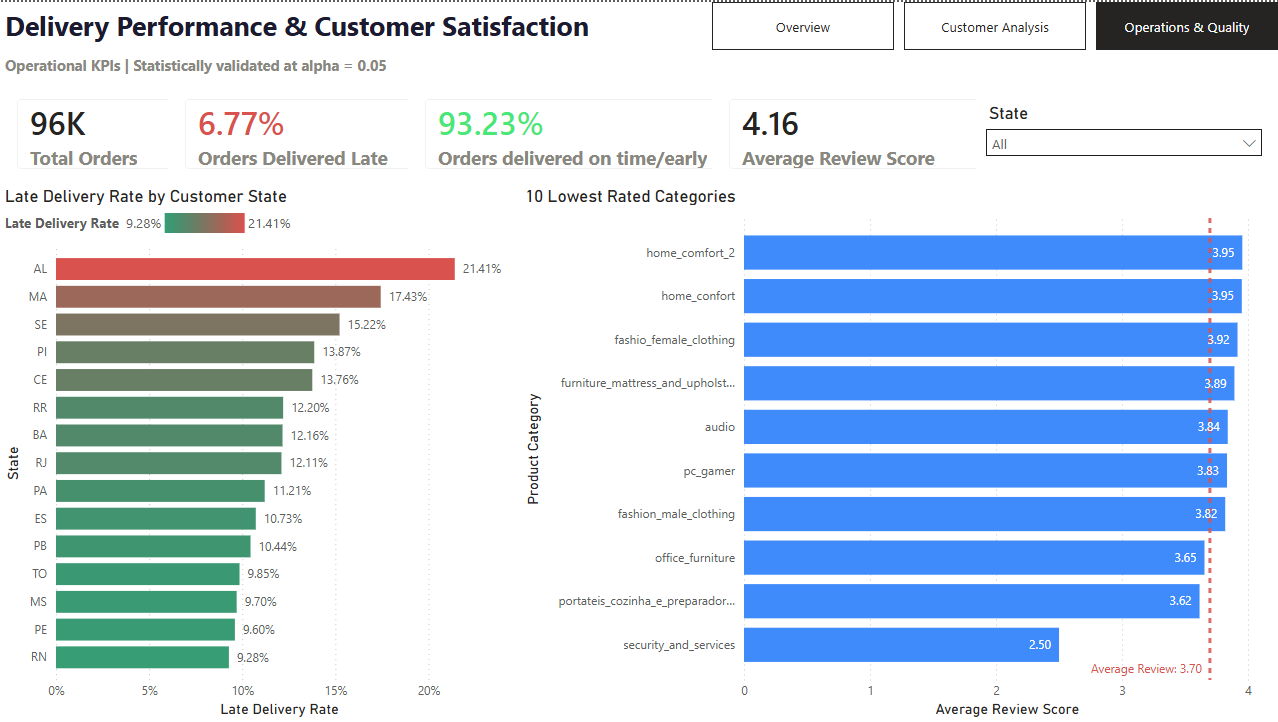

The page's visual inventory and layout, read from the dashboard file:
{"tool":"powerbi","page":{"name":"Operations & Quality","canvas":[1280,720],"ordinal":2},"visuals":[{"type":"textbox","box":[0,0,600,48],"z":0},{"type":"textbox","box":[0,48,392,32],"z":1000},{"type":"cardVisual","fields":{"Data":["_Measures.Total Orders"]},"box":[0,80,208,104],"z":2000},{"type":"cardVisual","fields":{"Data":["_Measures.Late Delivery Rate"]},"box":[168,80,280,104],"z":3000},{"type":"cardVisual","fields":{"Data":["_Measures.On Time Rate"]},"box":[408,80,384,104],"z":4000},{"type":"cardVisual","fields":{"Data":["_Measures.Avg Review Score"]},"box":[712,80,304,104],"z":5000},{"type":"clusteredBarChart","title":"Late Delivery Rate by Customer State","fields":{"Category":["fact_orders.customer_state"],"Y":["_Measures.Late Delivery Rate"]},"box":[0,184,520,536],"z":6000},{"type":"clusteredBarChart","title":"10 Lowest Rated Categories","fields":{"Category":["fact_orders.category_en"],"Y":["_Measures.Avg Review Score"]},"box":[520,184,760,536],"z":7000},{"type":"slicer","fields":{"Values":["fact_orders.customer_state"]},"box":[976,96,296,80],"z":8000},{"type":"pageNavigator","box":[712,0,568,48],"z":8001}]}

Visuals, with their boxes in screenshot pixels (x1, y1, x2, y2), scaled from the page's 1280x720 canvas onto the 1278x722 screenshot:
textbox: box=[0, 0, 599, 48]
textbox: box=[0, 48, 391, 80]
cardVisual - _Measures.Total Orders: box=[0, 80, 208, 185]
cardVisual - _Measures.Late Delivery Rate: box=[168, 80, 447, 185]
cardVisual - _Measures.On Time Rate: box=[407, 80, 791, 185]
cardVisual - _Measures.Avg Review Score: box=[711, 80, 1014, 185]
"Late Delivery Rate by Customer State" clusteredBarChart: box=[0, 185, 519, 721]
"10 Lowest Rated Categories" clusteredBarChart: box=[519, 185, 1277, 721]
slicer - fact_orders.customer_state: box=[974, 96, 1270, 176]
pageNavigator: box=[711, 0, 1277, 48]
